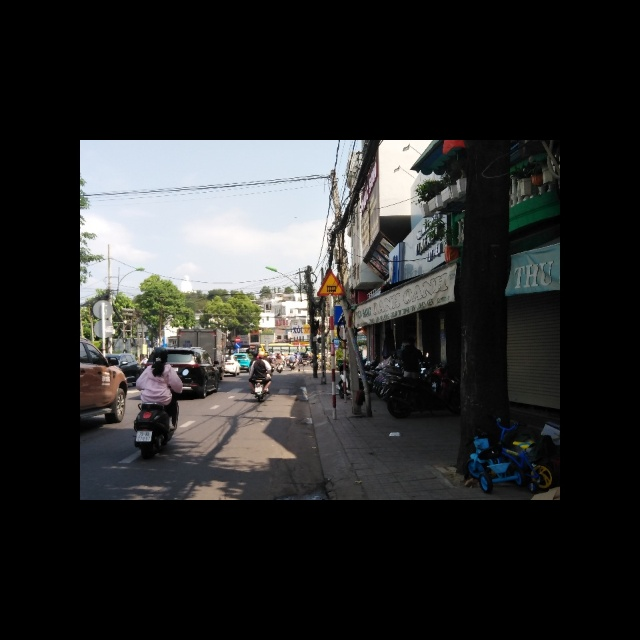Giao nhau với đường sắt có rào chắn: (317, 269, 346, 296)
